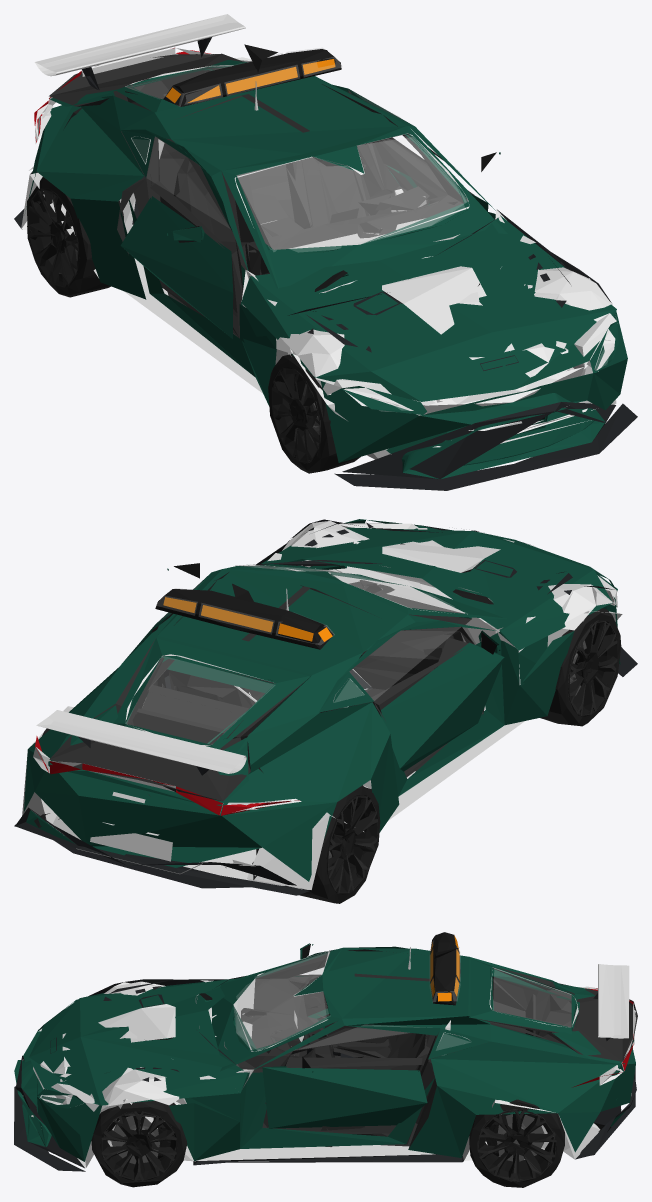
The picture shows the model from 3 angles, top to bottom: view 1: azimuth 30°, elevation 25°; view 2: azimuth 150°, elevation 25°; view 3: azimuth 270°, elevation 25°; orthographic projection. The views are drawn at different scales.
Parts seen in each view (by area): view 1: body, wheel_RR_spin, wheel_FR_spin; view 2: body, wheel_FR_spin, wheel_RR_spin; view 3: body, wheel_FL_spin, wheel_RL_spin.
Boxes of the visible parts, <box> form: body: <box>14,14,637,490</box>; wheel_RR_spin: <box>27,177,123,297</box>; wheel_FR_spin: <box>268,354,360,473</box>; body: <box>14,519,637,895</box>; wheel_FR_spin: <box>540,608,621,726</box>; wheel_RR_spin: <box>298,786,380,903</box>; body: <box>14,932,637,1171</box>; wheel_FL_spin: <box>91,1101,187,1187</box>; wheel_RL_spin: <box>469,1099,564,1187</box>.
Bounding box in the file's own units: 2.18 × 1.5 × 4.51.
